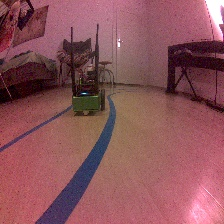rob: (70, 69, 106, 117)
